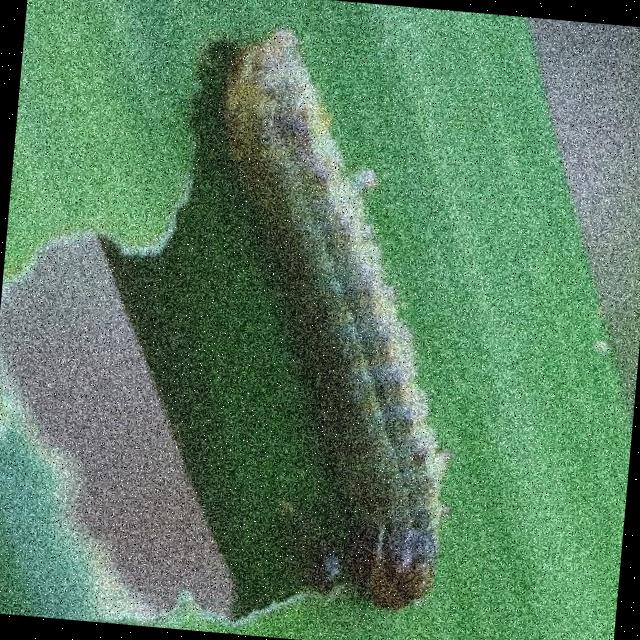worm: (164, 22, 487, 640)
